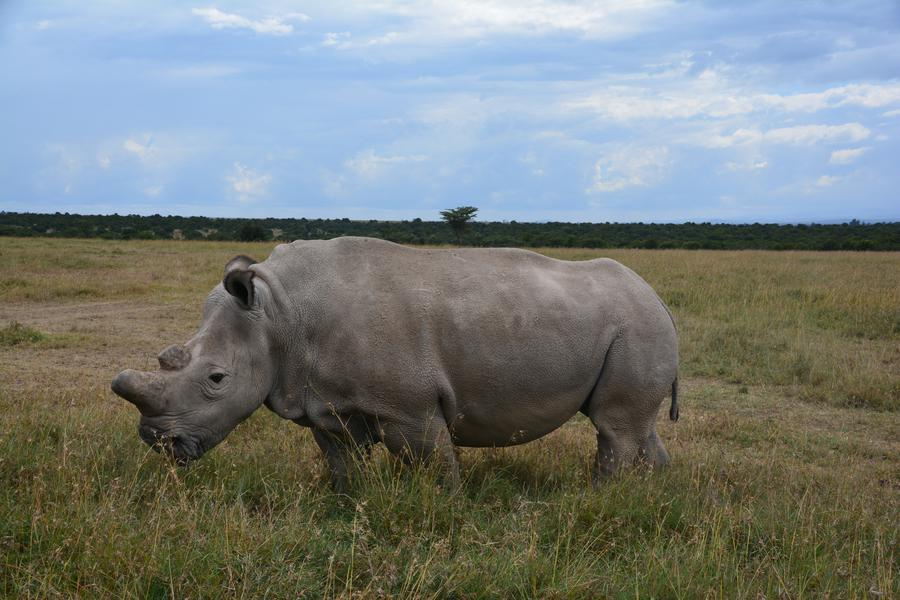rhino: (153, 239, 662, 491)
